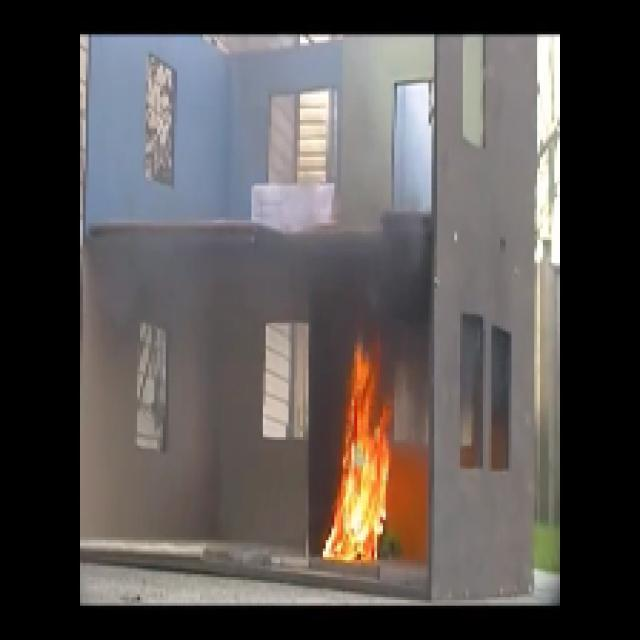Fire: (340, 348, 384, 562)
Smoke: (324, 220, 422, 326)
